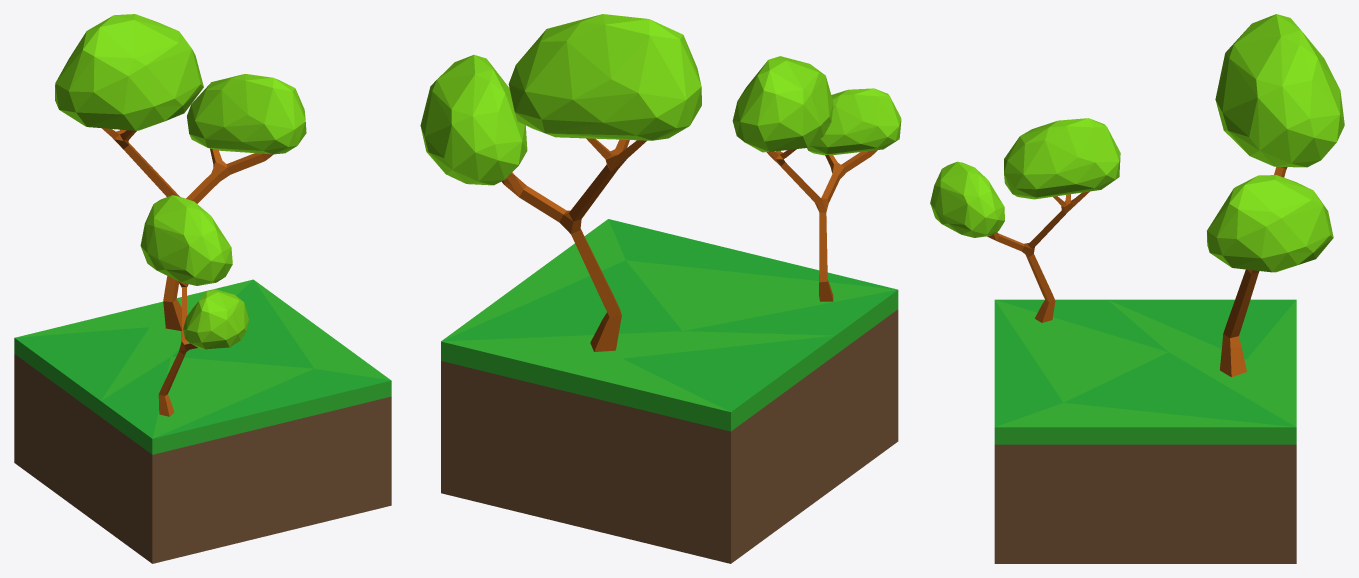
The model's file is IsoTrees.fbx.
The picture shows the model from 3 angles, left to right: view 1: azimuth 30°, elevation 25°; view 2: azimuth 150°, elevation 25°; view 3: azimuth 270°, elevation 25°; orthographic projection. The views are drawn at different scales.
Parts seen in each view (by area): view 1: Cube, Icosphere, Icosphere.001, Icosphere.003, Cube.001, Icosphere.002, Cube.002; view 2: Cube, Icosphere, Icosphere.001, Icosphere.003, Cube.001, Icosphere.002, Cube.002; view 3: Cube, Icosphere, Icosphere.001, Icosphere.003, Icosphere.002, Cube.001, Cube.002.
Boxes of the visible parts, x1,y1,x2,y2 form: Cube: [14, 279, 391, 563]; Icosphere: [55, 14, 203, 130]; Icosphere.001: [187, 74, 306, 154]; Icosphere.003: [140, 195, 232, 285]; Cube.001: [102, 128, 299, 330]; Icosphere.002: [183, 289, 248, 349]; Cube.002: [158, 281, 197, 416]; Cube: [441, 219, 898, 563]; Icosphere: [508, 14, 701, 140]; Icosphere.001: [420, 55, 527, 185]; Icosphere.003: [732, 56, 833, 152]; Cube.001: [501, 138, 646, 351]; Icosphere.002: [807, 88, 901, 155]; Cube.002: [766, 149, 877, 301]; Cube: [994, 299, 1296, 563]; Icosphere: [1215, 14, 1344, 167]; Icosphere.001: [1207, 175, 1333, 272]; Icosphere.003: [1004, 118, 1120, 199]; Icosphere.002: [930, 161, 1004, 237]; Cube.001: [1210, 167, 1287, 377]; Cube.002: [987, 191, 1089, 322].
Bounding box in the file's own units: 2.23 × 3.39 × 2.75.
